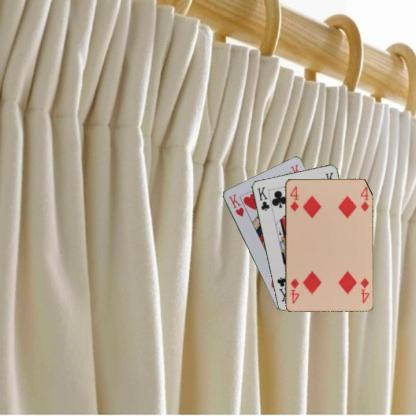4d: (287, 183, 300, 212), (358, 275, 370, 304)
Kc: (254, 184, 271, 212)
Kh: (226, 191, 245, 218)
